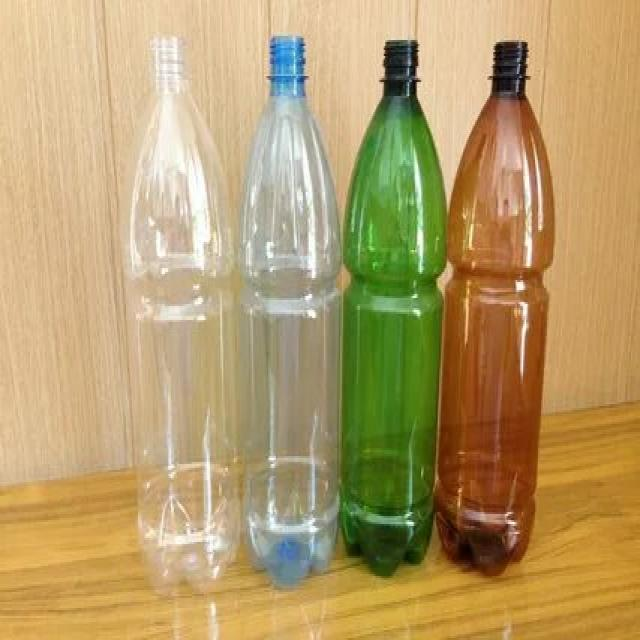blue: (246, 38, 340, 585)
brown: (450, 38, 556, 577)
green: (345, 35, 447, 580)
